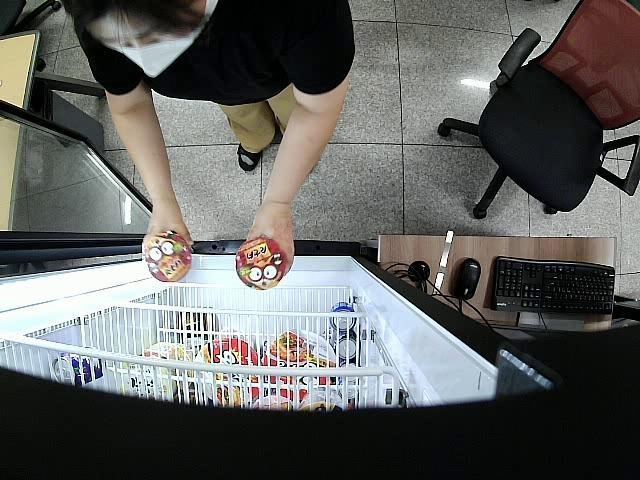06_nuguri_S: (234, 237, 286, 289), (142, 235, 193, 284)
